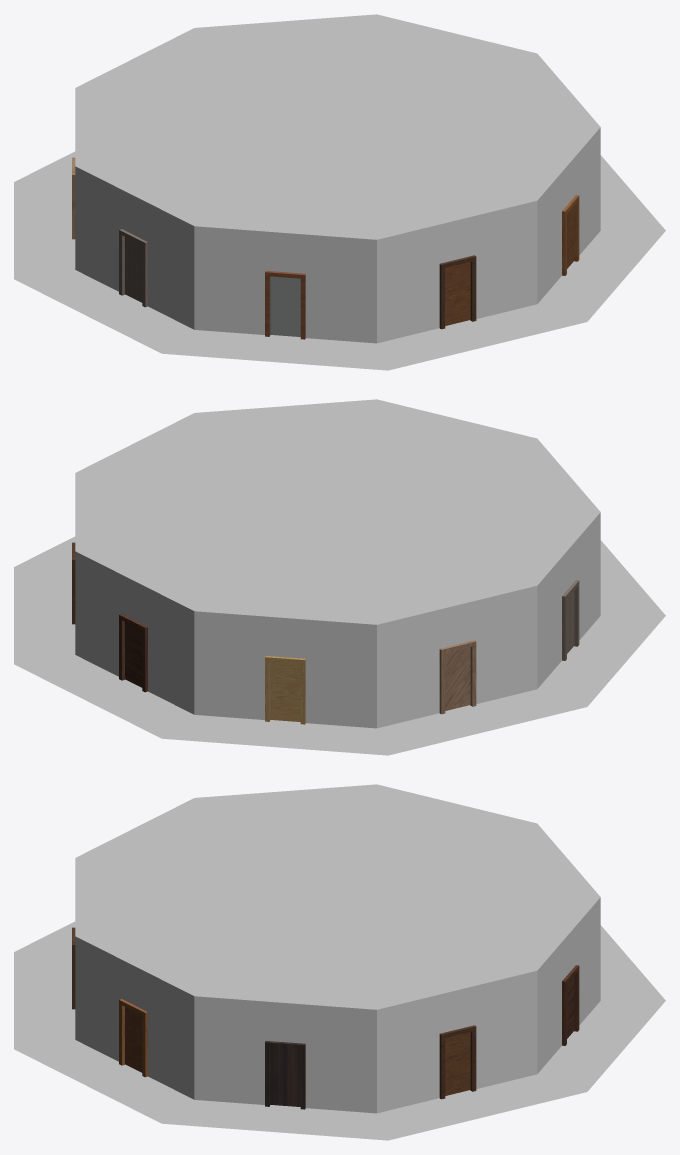
The model's file is Mini_Game_Base.fbx.
The picture shows the model from 3 angles, top to bottom: view 1: azimuth 30°, elevation 25°; view 2: azimuth 150°, elevation 25°; view 3: azimuth 270°, elevation 25°; orthographic projection.
Parts seen in each view (by area): view 1: Mini_Game_Base, Door_09, Door_08, Door_Frame_08, Door_01, Door_Frame_09, Door_Frame_01, Door_Frame_07; view 2: Mini_Game_Base, Door_03, Door_02, Door_Frame_02, Door_04, Door_Frame_03, Door_Frame_04, Door_Frame_01; view 3: Mini_Game_Base, Door_06, Door_05, Door_Frame_05, Door_07, Door_Frame_06, Door_Frame_07, Door_Frame_04.
Part boxes in pixels (box(x1,y1,x2,y2)): Mini_Game_Base: box(14, 14, 665, 370); Door_09: box(270, 276, 300, 336); Door_08: box(445, 262, 470, 325); Door_Frame_08: box(439, 255, 476, 329); Door_01: box(125, 237, 142, 302); Door_Frame_09: box(265, 271, 305, 339); Door_Frame_01: box(119, 229, 147, 307); Door_Frame_07: box(562, 195, 579, 275); Mini_Game_Base: box(14, 399, 665, 755); Door_03: box(270, 661, 300, 721); Door_02: box(445, 647, 470, 710); Door_Frame_02: box(439, 640, 476, 714); Door_04: box(125, 622, 142, 687); Door_Frame_03: box(265, 656, 305, 724); Door_Frame_04: box(119, 614, 147, 692); Door_Frame_01: box(562, 580, 579, 660); Mini_Game_Base: box(14, 784, 665, 1140); Door_06: box(270, 1046, 300, 1106); Door_05: box(445, 1032, 470, 1095); Door_Frame_05: box(439, 1025, 476, 1099); Door_07: box(125, 1007, 142, 1072); Door_Frame_06: box(265, 1041, 305, 1109); Door_Frame_07: box(119, 999, 147, 1077); Door_Frame_04: box(562, 965, 579, 1045).
Bounding box in the file's own units: 2258 × 390 × 2224.
